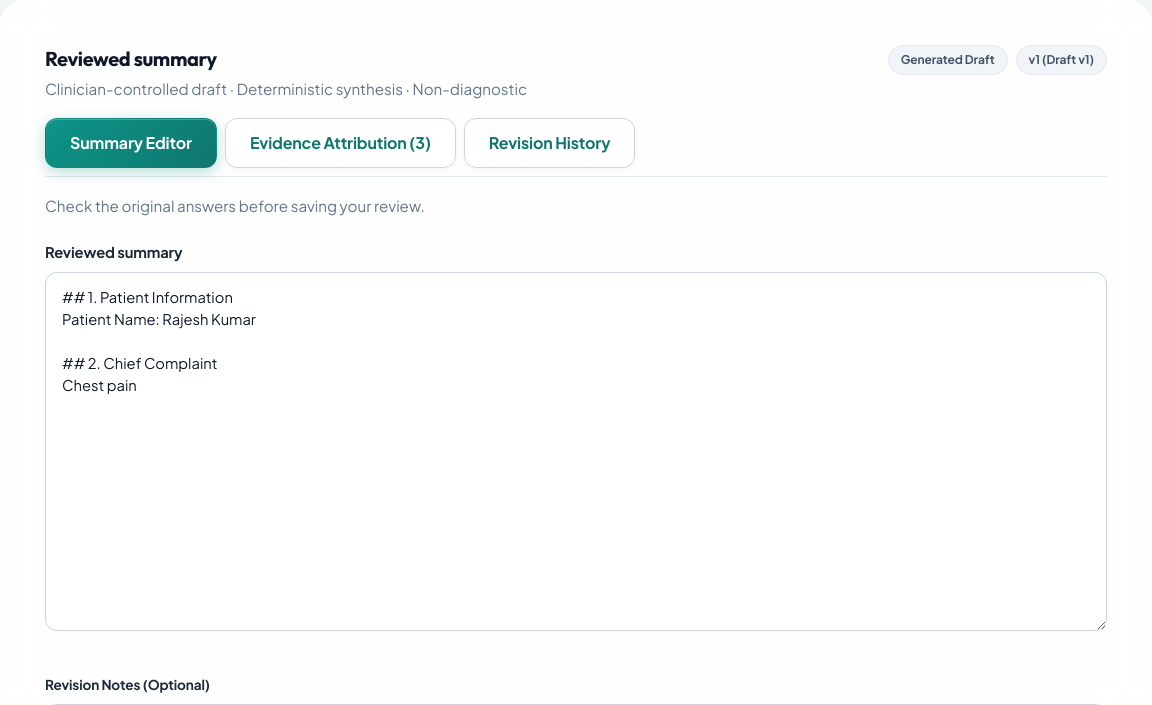
Scenario: Phase 8 SummaryWorkspace Component › switches to revision history view and loads revisions from API
Click the button "Revision History".
click(550, 143)  # box [464, 118, 635, 168]
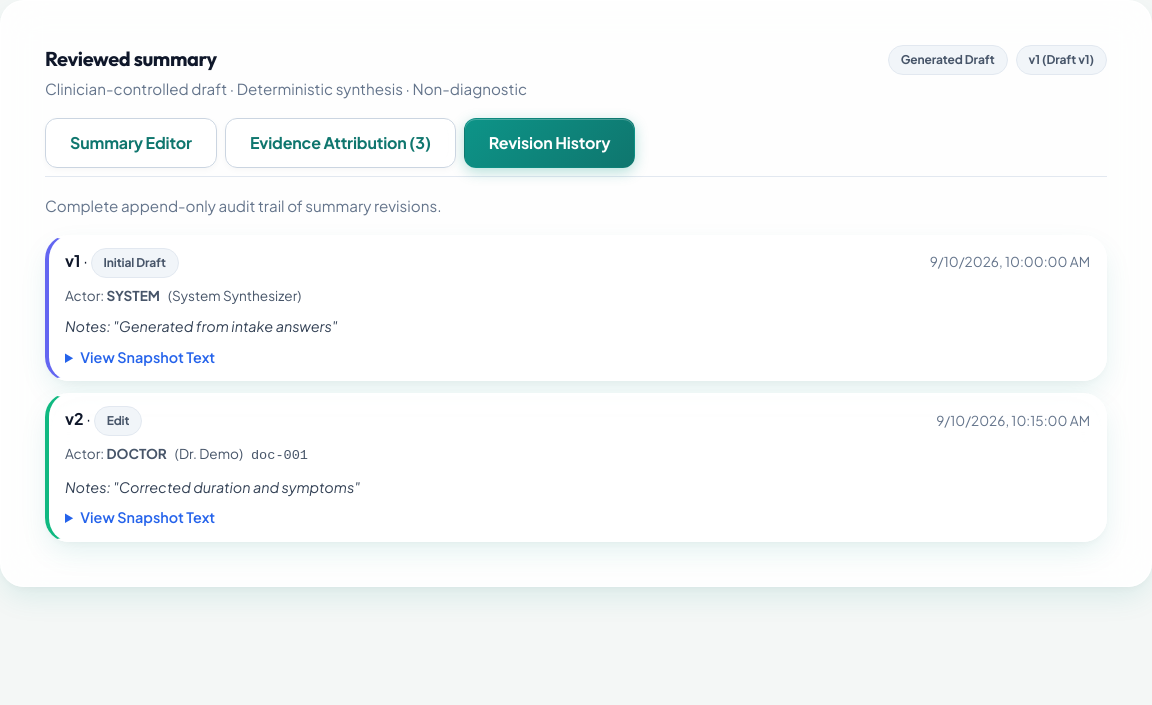
Check: the text "initial draft" is shown, box [90, 248, 179, 278]
Check: the text "edit" is shown, box [94, 406, 142, 436]
Check: the text "Notes: \"Corrected duration and symptoms\"" is shown, box [65, 478, 360, 496]
